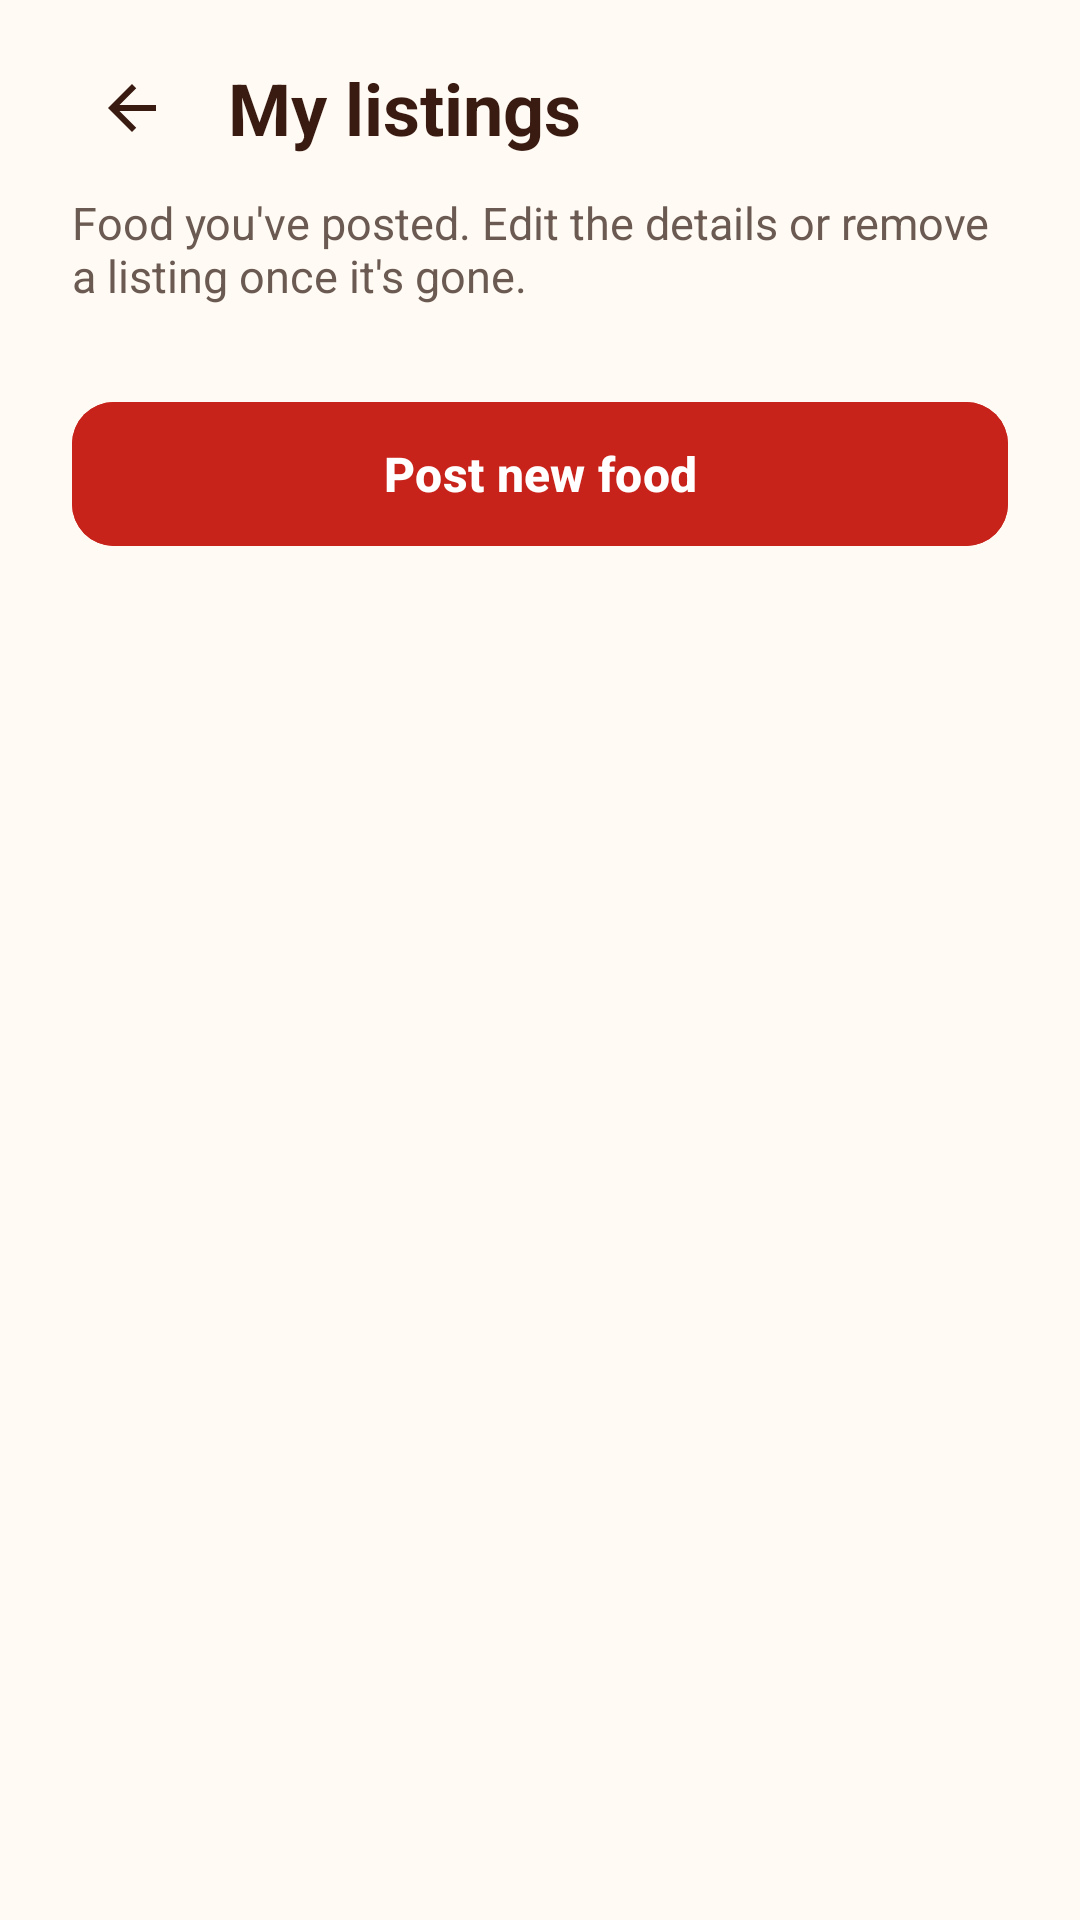

Icons on this 1080*1920 Android screen, each with its box as {"x1": x1, "y1": y1, "x2": x2, "y2": y2}:
Back: {"x1": 108, "y1": 84, "x2": 156, "y2": 132}
